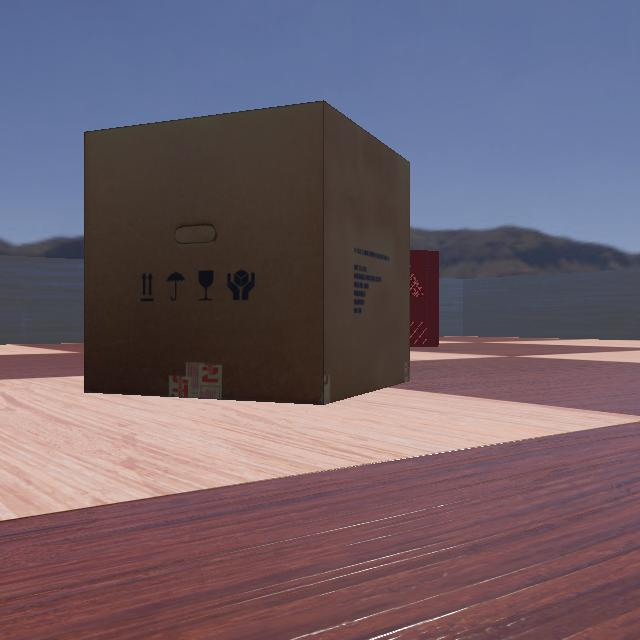cardboard-box: (43, 100, 444, 404)
